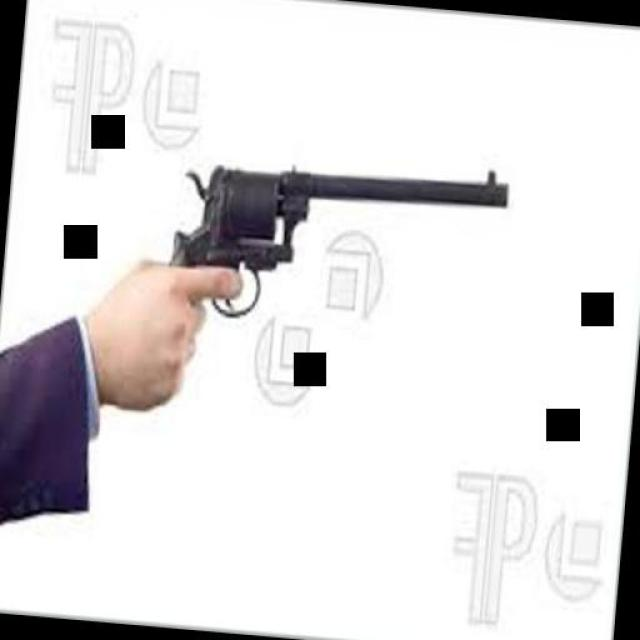gun: (164, 136, 518, 354)
